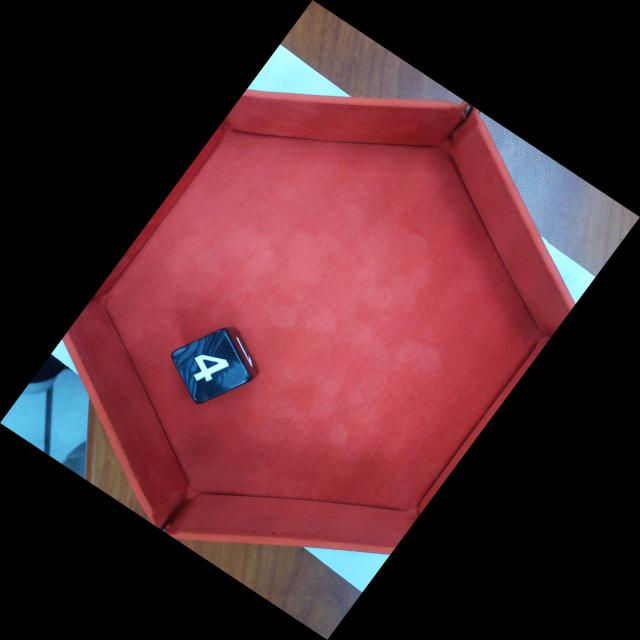dice: (173, 323, 259, 401)
